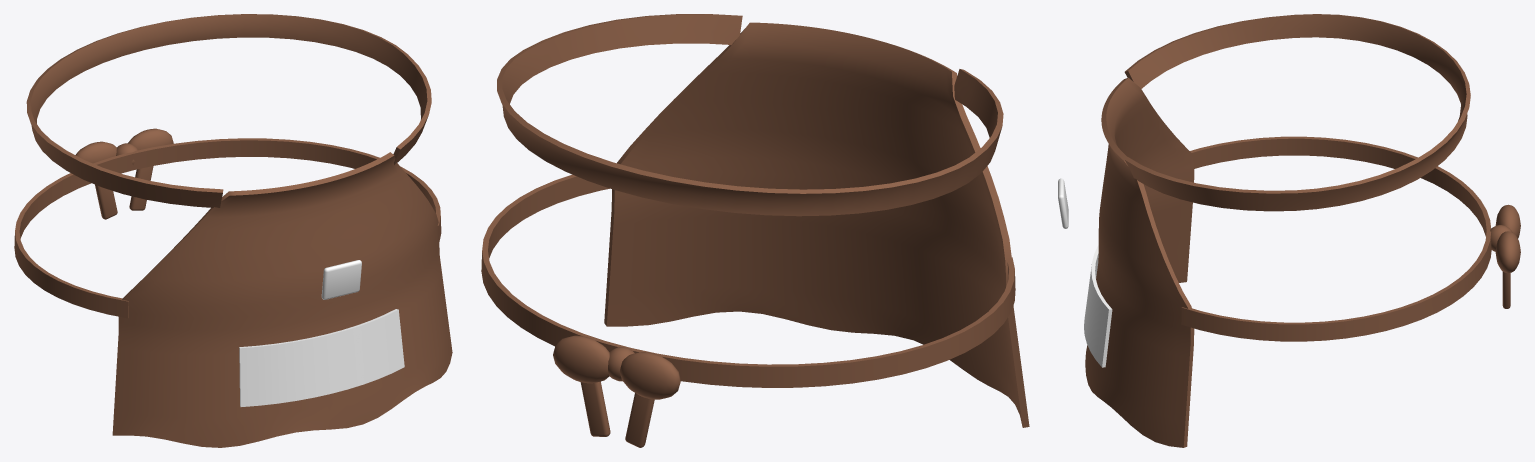
Rendered from barista_apron.fbx.
3 renders of one model, left to right at view 1: azimuth 30°, elevation 25°; view 2: azimuth 150°, elevation 25°; view 3: azimuth 270°, elevation 25°, orthographic. The views are drawn at different scales.
Parts seen in each view (by area): view 1: Apron_Panel, Apron_NeckStrap, Apron_Pocket, Apron_WaistTie, Apron_Badge, Apron_BowR, Apron_BowL, Apron_TailL; view 2: Apron_Panel, Apron_NeckStrap, Apron_WaistTie, Apron_BowL, Apron_BowR, Apron_TailR, Apron_TailL; view 3: Apron_Panel, Apron_NeckStrap, Apron_WaistTie, Apron_Pocket, Apron_BowR, Apron_BowL.
Part boxes in pixels (x1=…): Apron_Panel: x1=112, y1=152, x2=452, y2=447; Apron_NeckStrap: x1=26, y1=14, x2=431, y2=207; Apron_Pocket: x1=239, y1=309, x2=404, y2=406; Apron_WaistTie: x1=14, y1=138, x2=441, y2=318; Apron_Badge: x1=321, y1=260, x2=361, y2=299; Apron_BowR: x1=128, y1=128, x2=173, y2=150; Apron_BowL: x1=75, y1=141, x2=116, y2=163; Apron_TailL: x1=95, y1=184, x2=117, y2=219; Apron_Panel: x1=604, y1=22, x2=1029, y2=427; Apron_NeckStrap: x1=497, y1=14, x2=1003, y2=216; Apron_WaistTie: x1=481, y1=174, x2=1015, y2=387; Apron_BowL: x1=620, y1=352, x2=680, y2=399; Apron_BowR: x1=553, y1=335, x2=609, y2=383; Apron_TailR: x1=580, y1=381, x2=610, y2=436; Apron_TailL: x1=625, y1=393, x2=654, y2=447; Apron_Panel: x1=1085, y1=77, x2=1194, y2=447; Apron_NeckStrap: x1=1124, y1=14, x2=1470, y2=211; Apron_WaistTie: x1=1181, y1=136, x2=1491, y2=341; Apron_Pocket: x1=1084, y1=245, x2=1112, y2=367; Apron_BowR: x1=1495, y1=231, x2=1520, y2=273; Apron_BowL: x1=1495, y1=204, x2=1520, y2=238.
Size of the model in its own units: 14.25 by 9.68 by 14.8.
